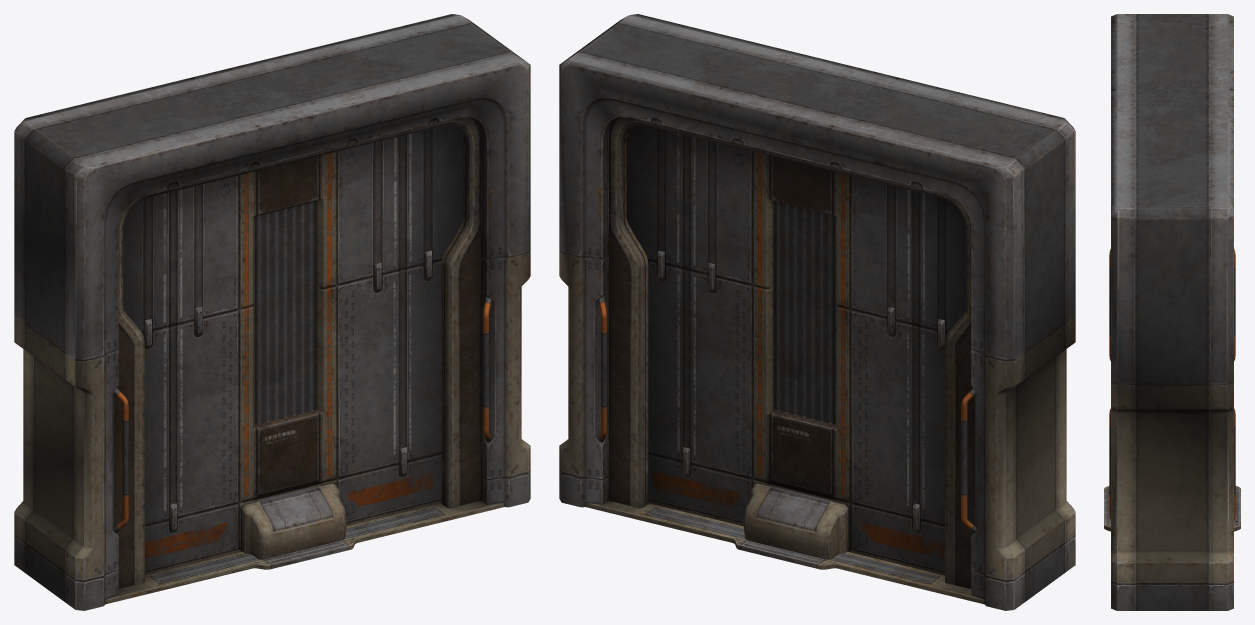
File: slidedoor_large_bulkhead_vertical.dae
3 renders of one model, left to right at view 1: azimuth 30°, elevation 25°; view 2: azimuth 150°, elevation 25°; view 3: azimuth 270°, elevation 25°, orthographic. The views are drawn at different scales.
Visible parts, largest first — view 1: frame__2_, door__2_; view 2: frame__2_, door__2_; view 3: frame__2_.
Boxes of the visible parts, x1,y1,x2,y2 form: frame__2_: (14,14,530,610); door__2_: (123,125,463,575); frame__2_: (559,14,1075,610); door__2_: (626,125,966,575); frame__2_: (1104,14,1240,610).
Size of the model in its own units: 3.39 by 3.17 by 0.9723.
